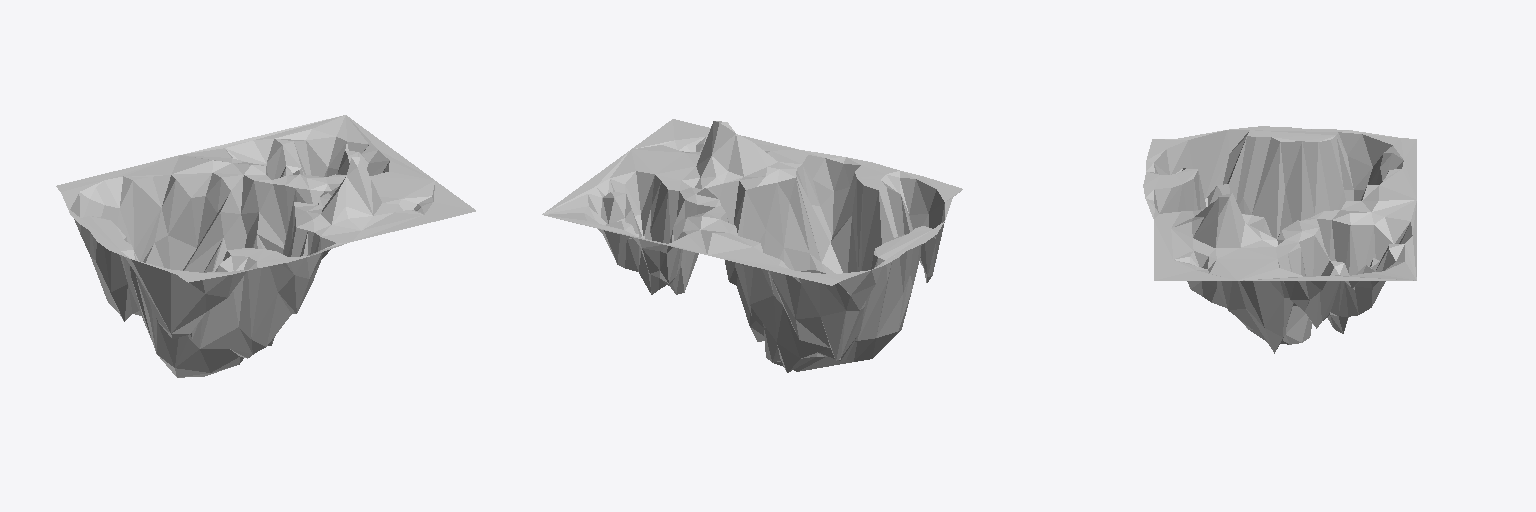
The model's file is CaveWalls1.obj.
3 views of the same model, side by side, from view 1: azimuth 30°, elevation 25°; view 2: azimuth 150°, elevation 25°; view 3: azimuth 270°, elevation 25° (orthographic).
Visible parts, largest first — view 1: CaveWalls_Landscape.001; view 2: CaveWalls_Landscape.001; view 3: CaveWalls_Landscape.001.
Boxes of the visible parts, x1,y1,x2,y2 form: CaveWalls_Landscape.001: [56, 115, 475, 377]; CaveWalls_Landscape.001: [542, 119, 962, 372]; CaveWalls_Landscape.001: [1143, 126, 1416, 353].
Bounding box in the file's own units: 15.61 × 9.28 × 11.7.